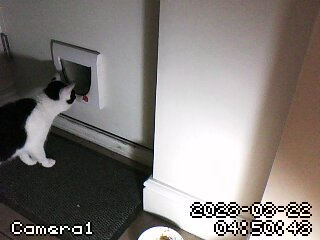bad: (6, 71, 80, 178)
